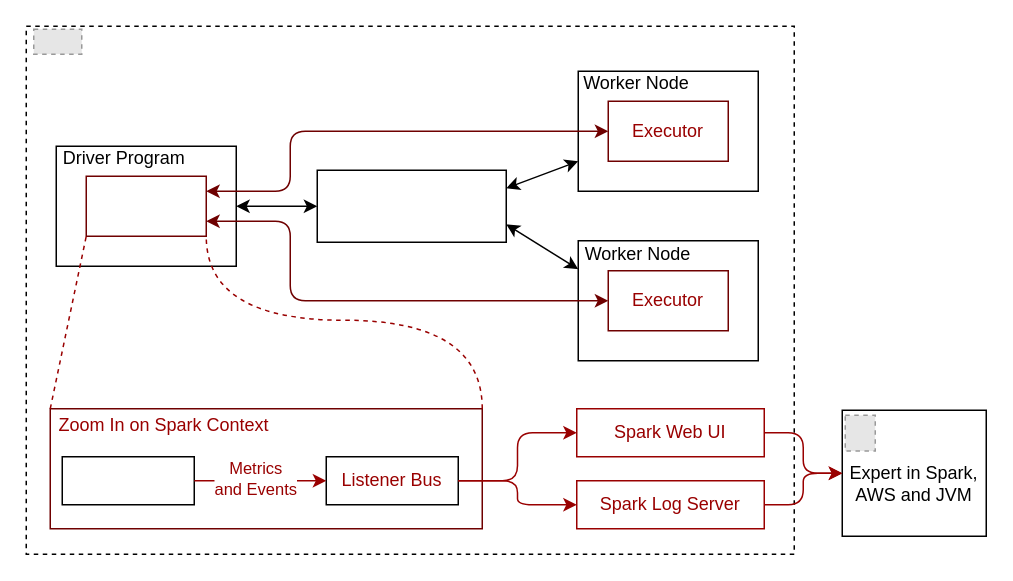
Image size: 1013x581. Some labels were removed from this diagram. Grey dashed boxes stand in for pictures. The shapes that lost their labels are listed below. From the top down, each one's centre as x and y in pixels, then its label:
At point 145,205: "Spark Context".
At point 411,205: "Cluster Manager".
At point 127,480: "Dag Scheduler".
